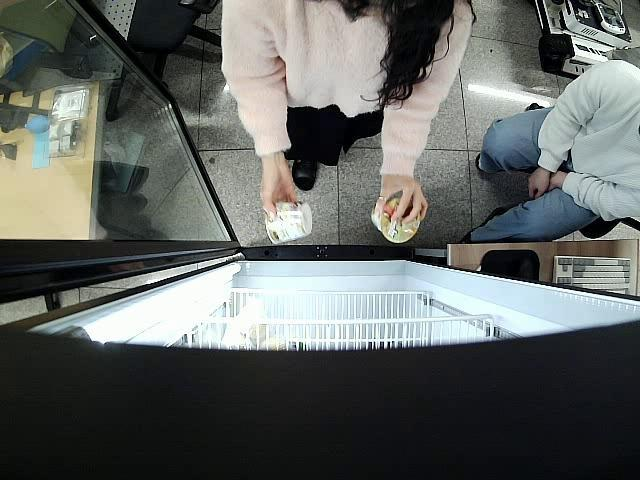04_chapagetti_S: (371, 195, 422, 244), (266, 199, 313, 245)
